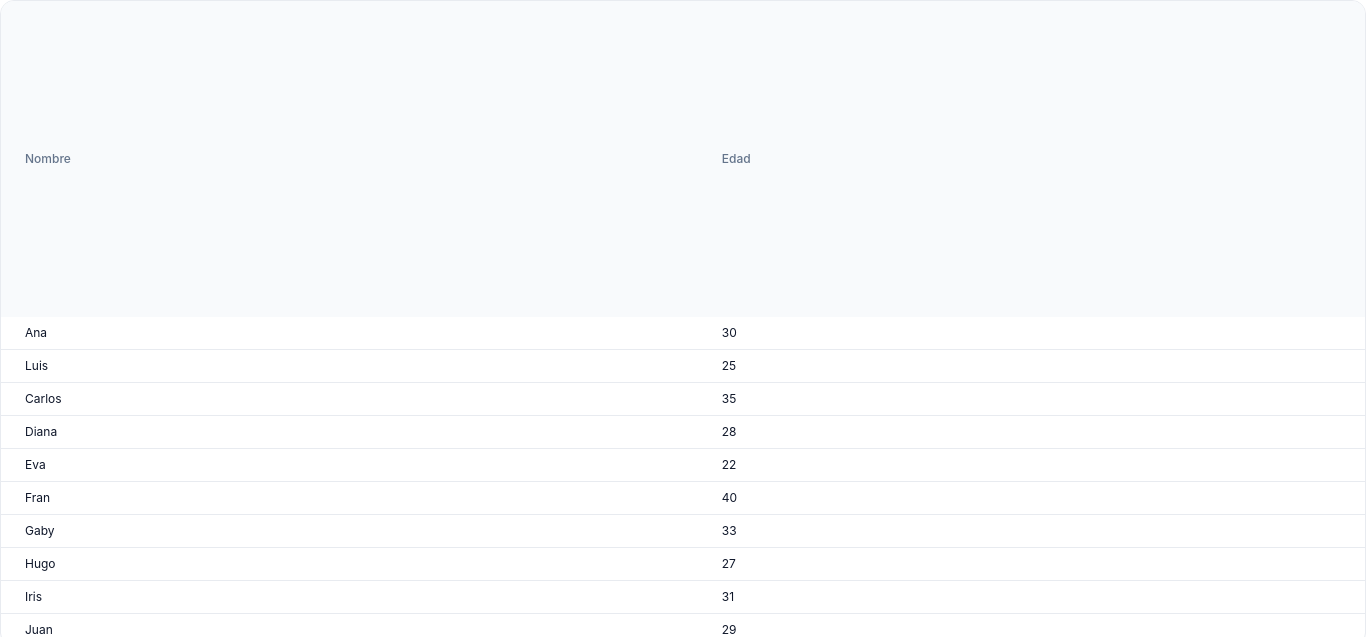
Test: TableComponent › toggles to descending on second click
Click the column heading "Edad" at (1031, 159), box [698,1,1365,317]
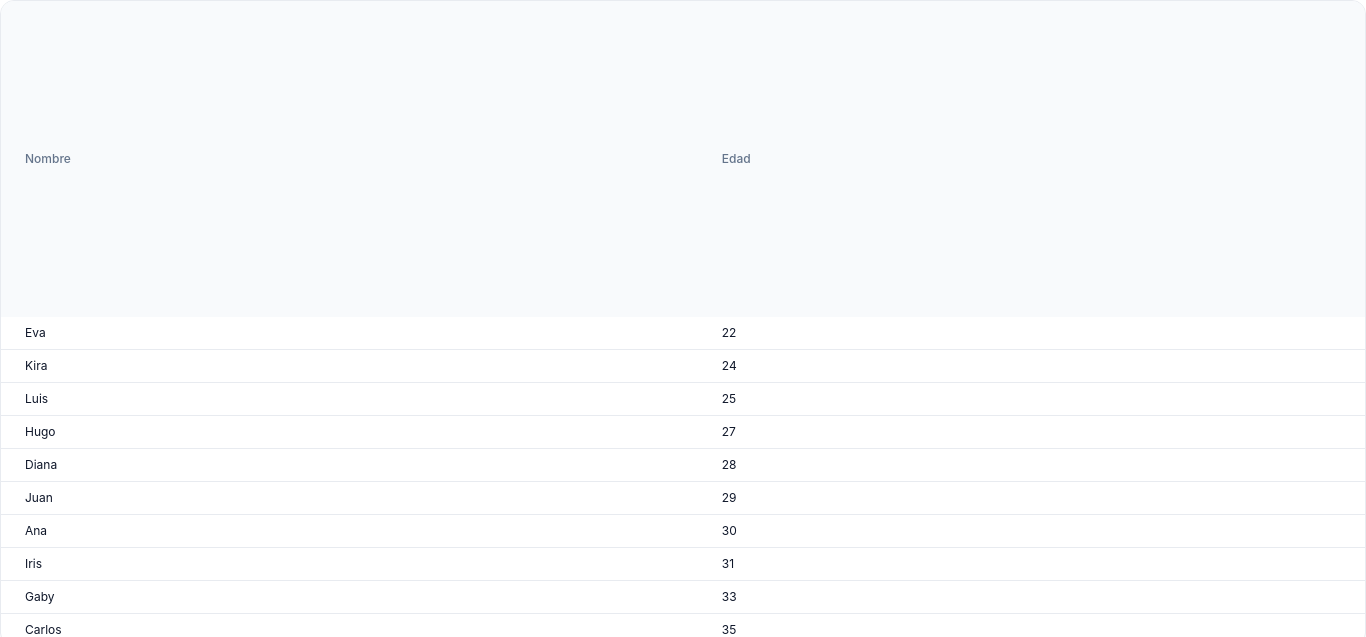
Click the column heading "Edad" at (1031, 159), box [698,1,1365,317]
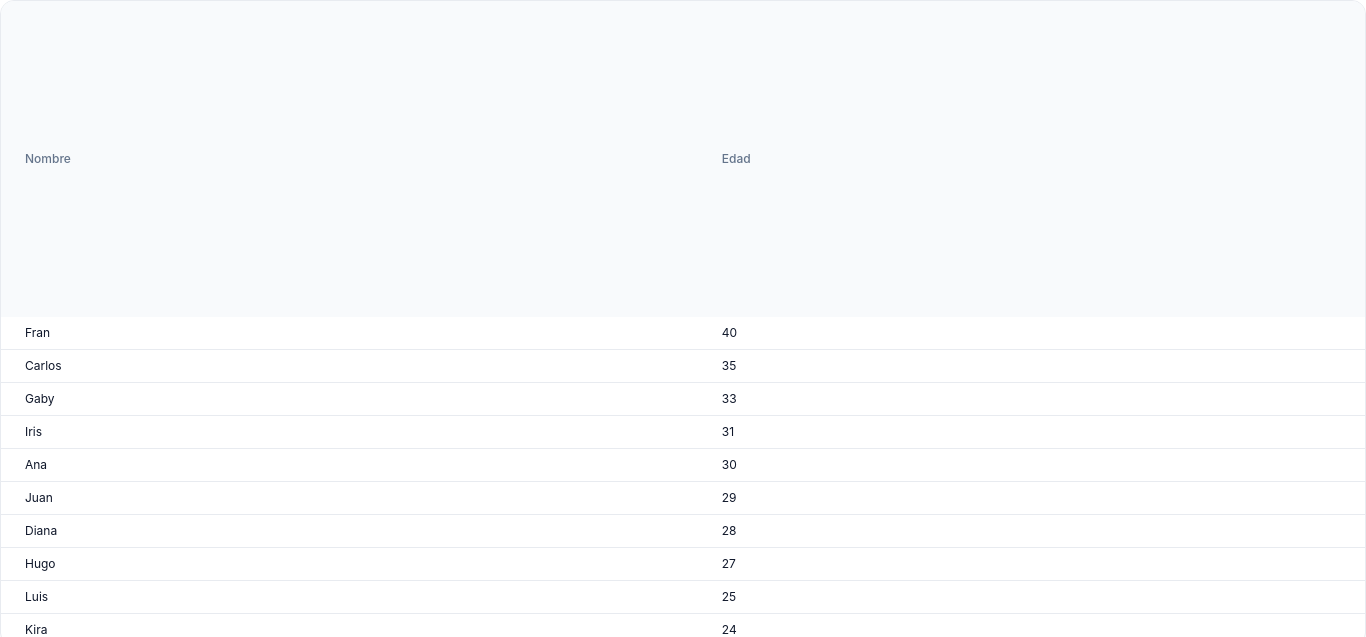
Now the cell "Fran" is shown, box [1,317,698,350]
